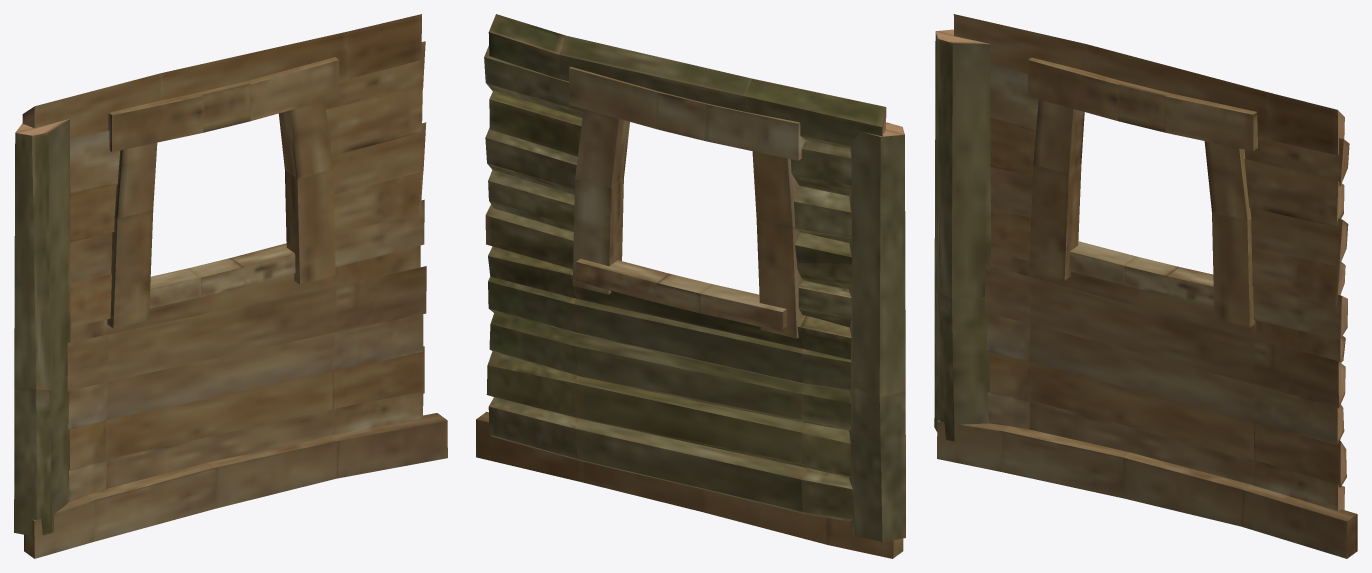
Rendered from window.obj.
3 views of the same model, side by side, from view 1: azimuth 30°, elevation 25°; view 2: azimuth 150°, elevation 25°; view 3: azimuth 330°, elevation 25° (orthographic).
Parts seen in each view (by area): view 1: window; view 2: window; view 3: window.
Part boxes in pixels (x1,y1,x2,y2): window: [14, 14, 447, 558]; window: [476, 14, 905, 558]; window: [934, 14, 1357, 558].
Size of the model in its own units: 1 by 1 by 0.1.
1 material, 1 textured.
